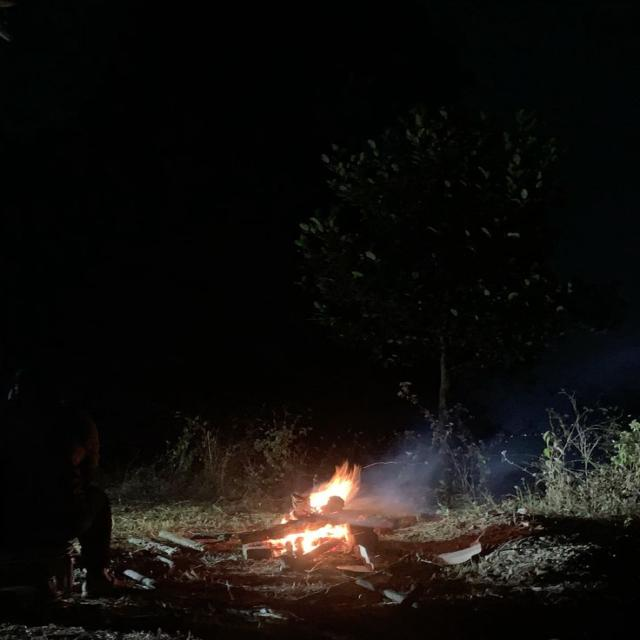fire: (267, 458, 362, 554)
